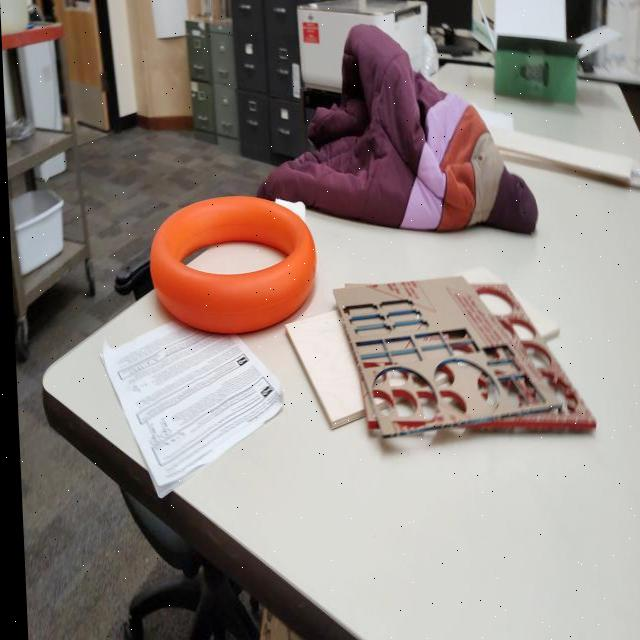note: (146, 194, 317, 338)
